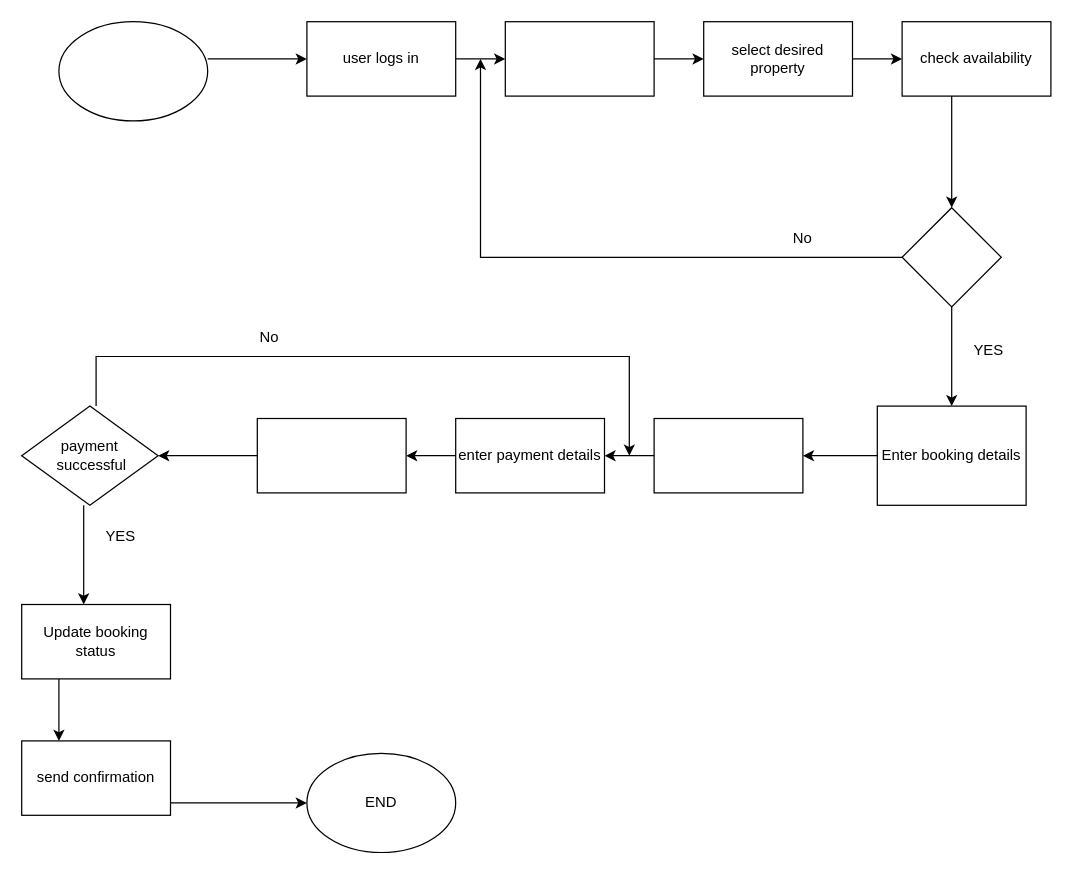
This 1073x874 diagram has some shape labels left out. Here are the shapes that lost their labels. From the top down, the box of each, then its label:
(58, 20, 208, 121): start
(504, 20, 654, 96): search for property
(901, 206, 1001, 307): Available?
(256, 417, 406, 493): process payment
(653, 417, 803, 493): confirm booking
